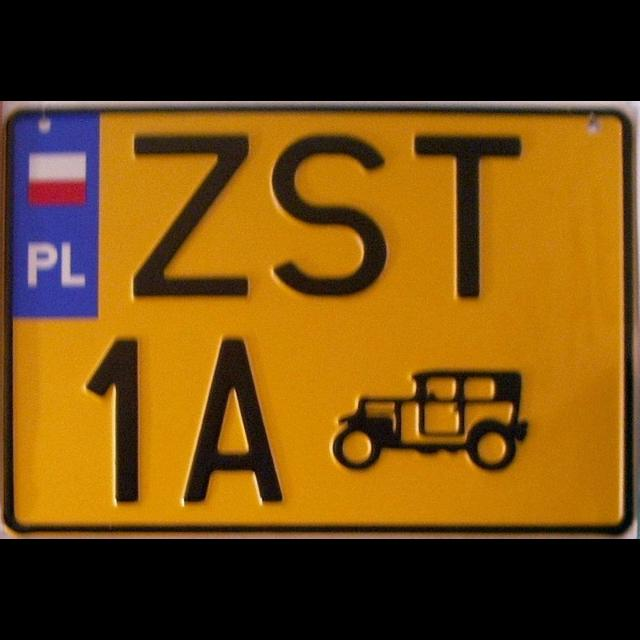pl_license_plate: (11, 111, 626, 528)
